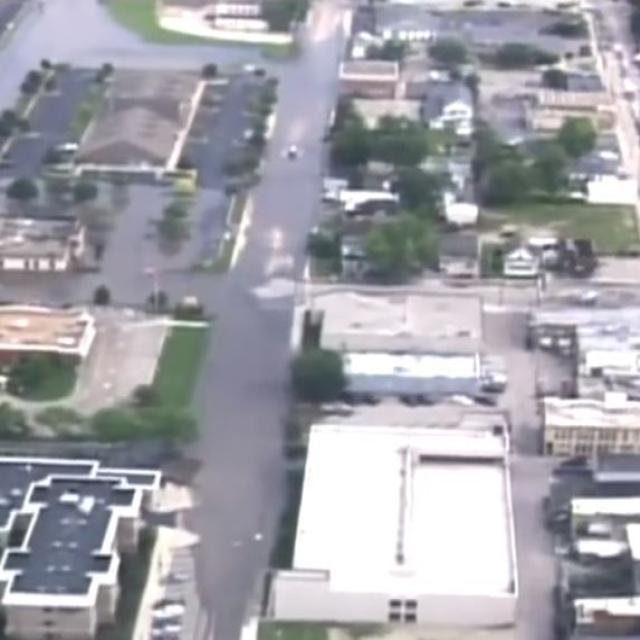flooded_areas: (0, 57, 355, 639)
